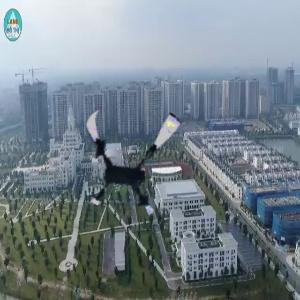drone: (73, 98, 192, 217)
